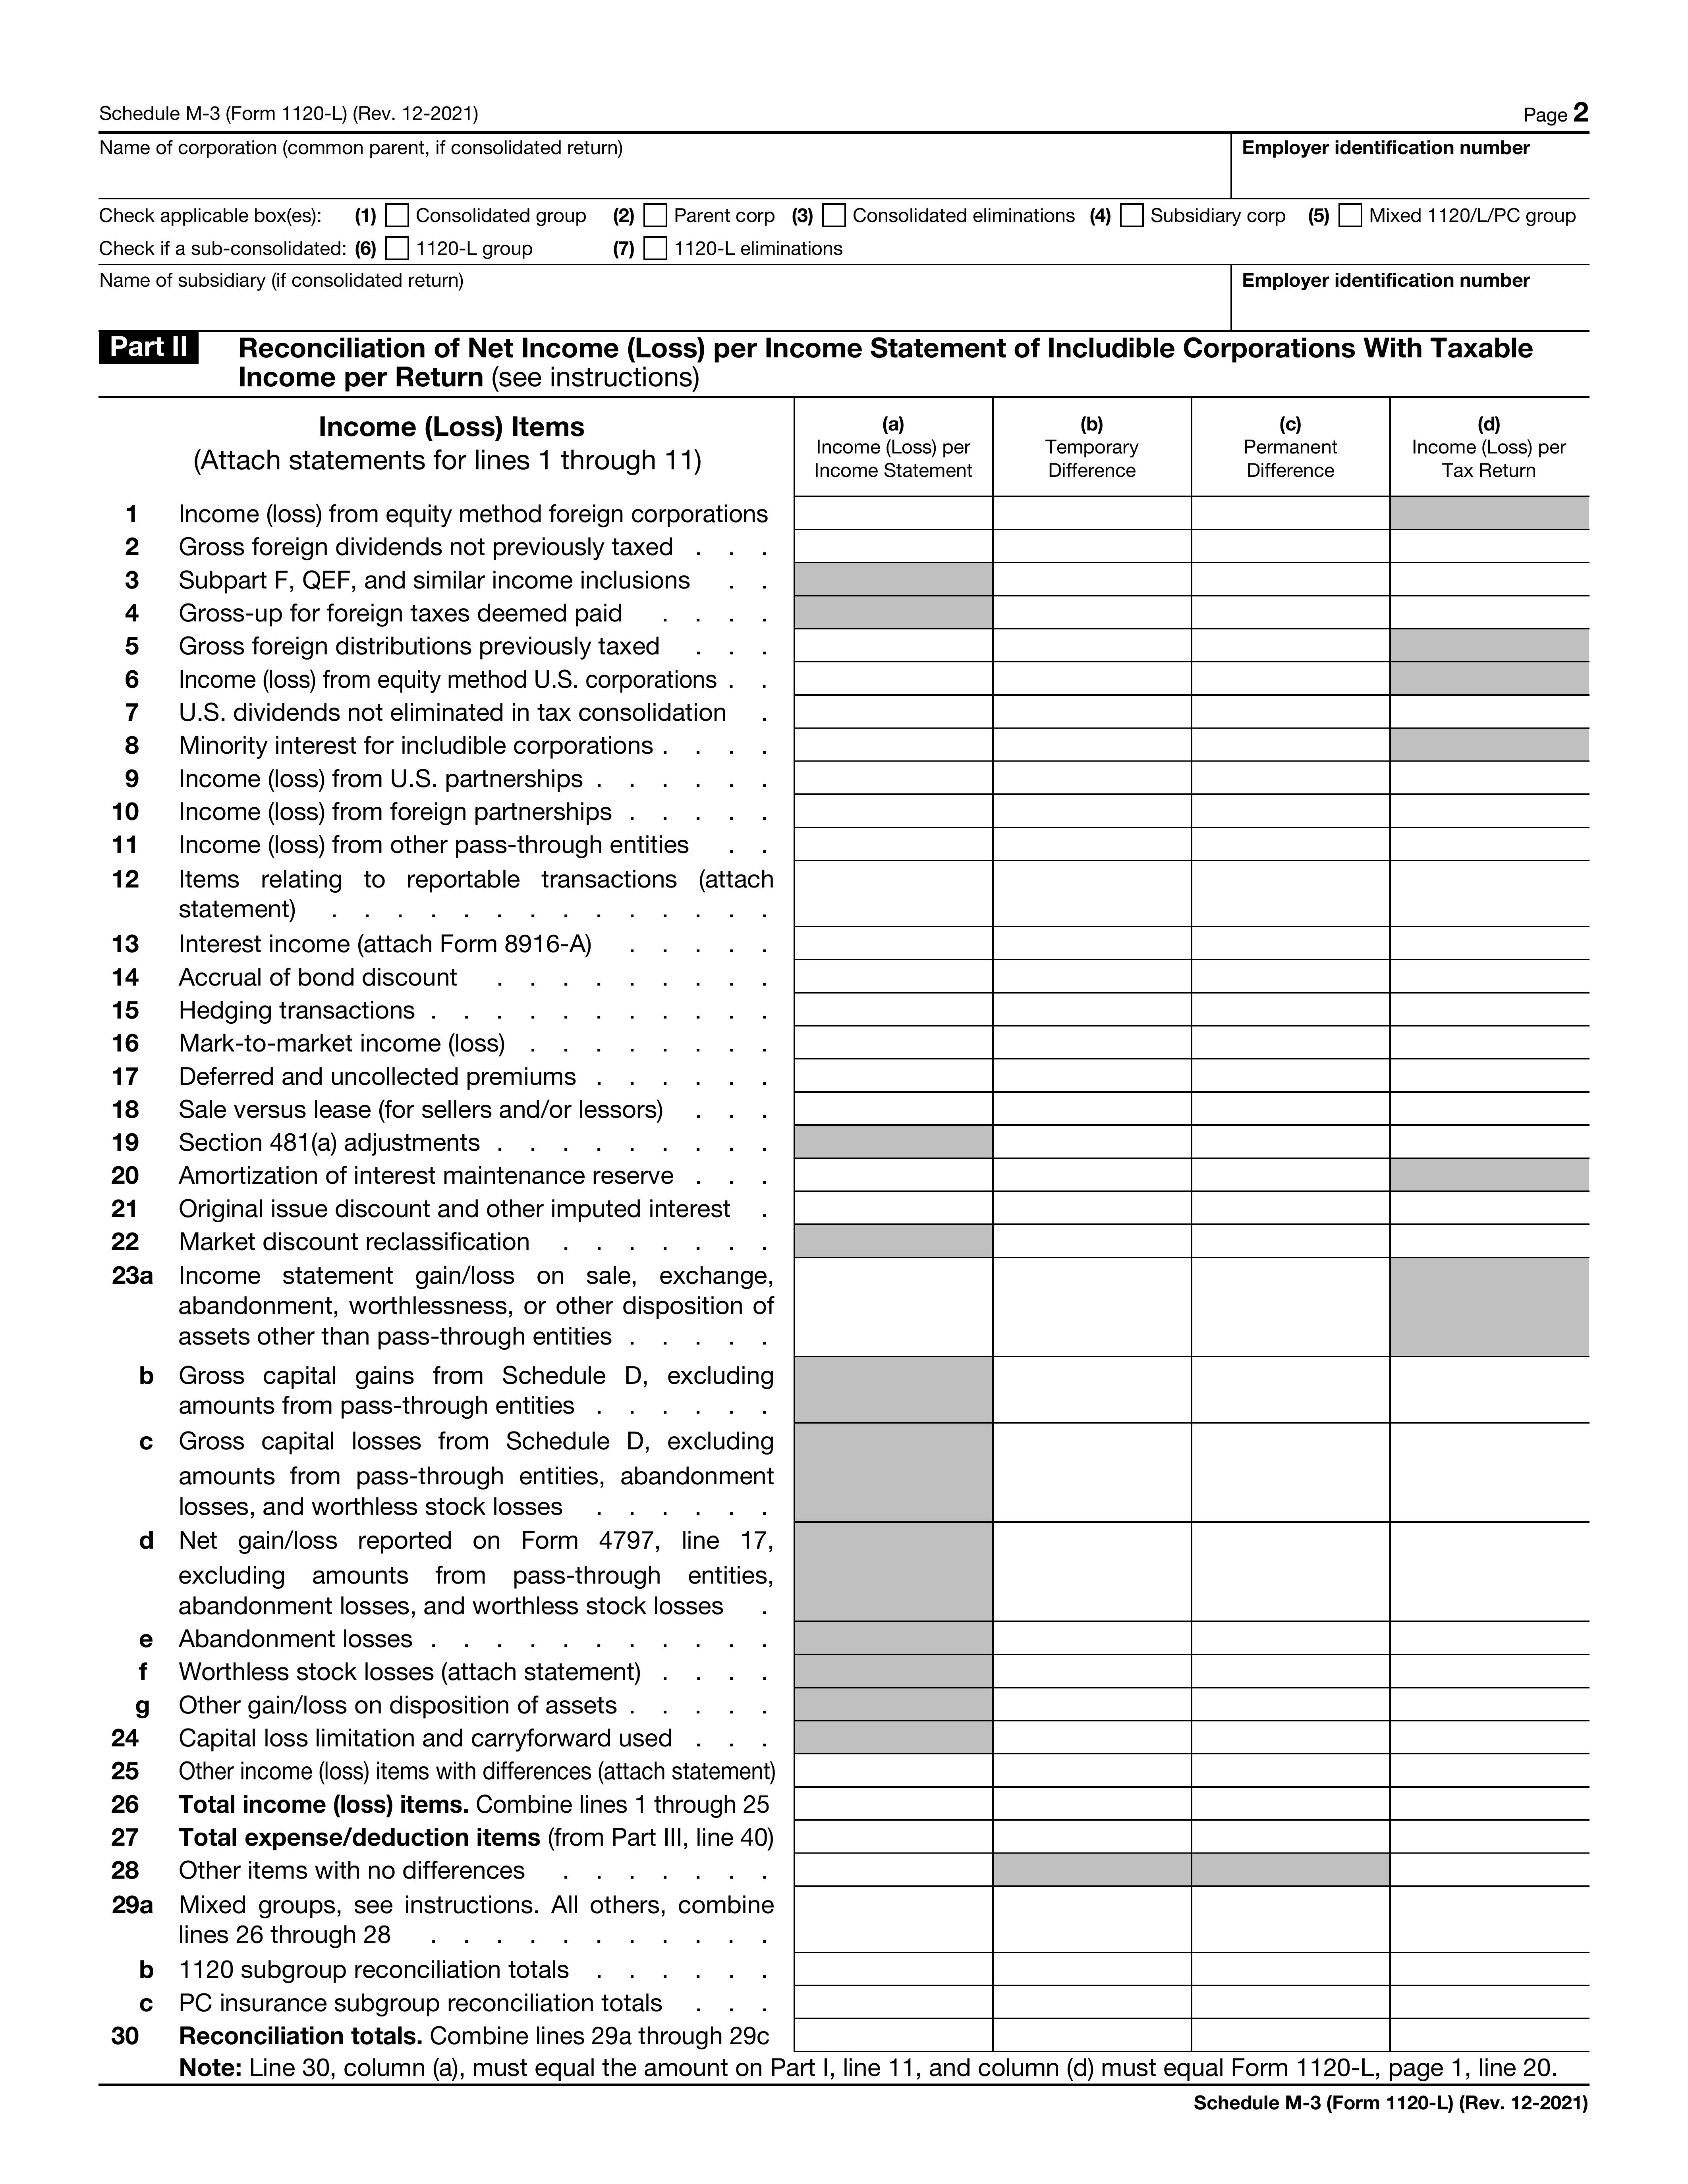form: (98, 122, 1617, 333)
table: (90, 395, 1605, 2083)
